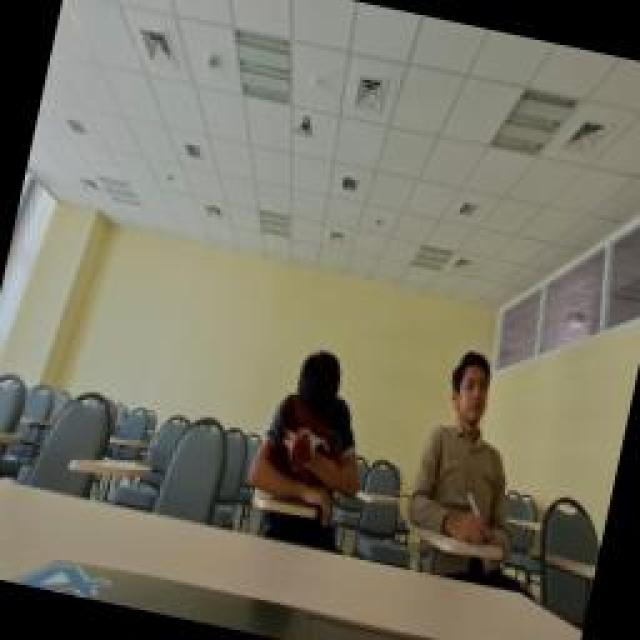sleep: (227, 328, 385, 502)
study: (400, 342, 545, 548)
